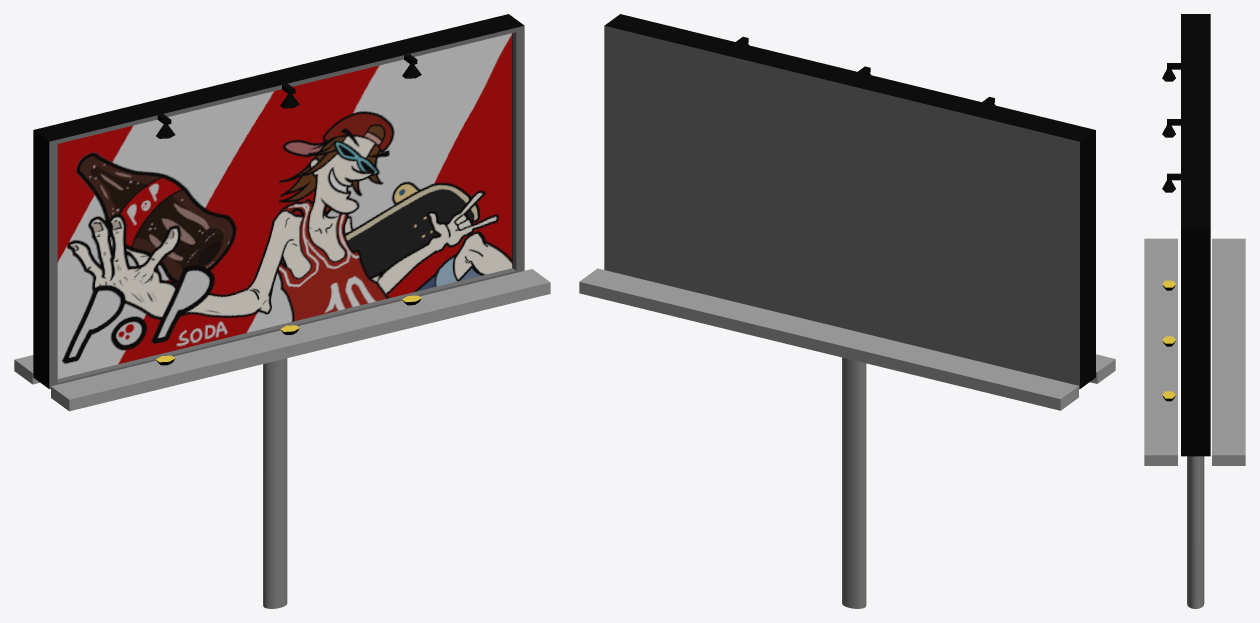
The model's file is Outdoor.fbx.
3 renders of one model, left to right at view 1: azimuth 30°, elevation 25°; view 2: azimuth 150°, elevation 25°; view 3: azimuth 270°, elevation 25°, orthographic. The views are drawn at different scales.
Visible parts, largest first — view 1: Outdoor1; view 2: Outdoor1; view 3: Outdoor1.
Boxes of the visible parts, box(x1,y1,x2,y2) form: Outdoor1: box(14, 14, 550, 608); Outdoor1: box(579, 14, 1115, 608); Outdoor1: box(1144, 14, 1245, 608).
Size of the model in its own units: 761 by 794 by 150.
